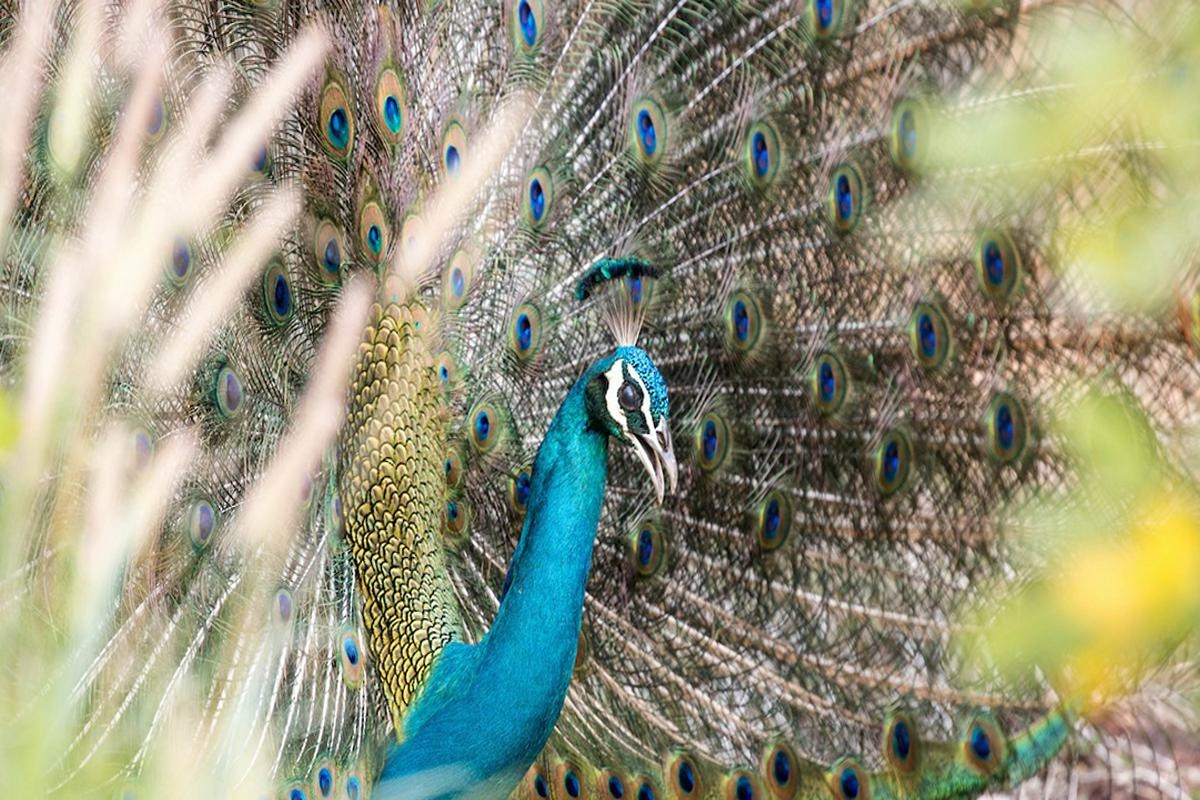peacock: (1, 41, 1136, 794)
